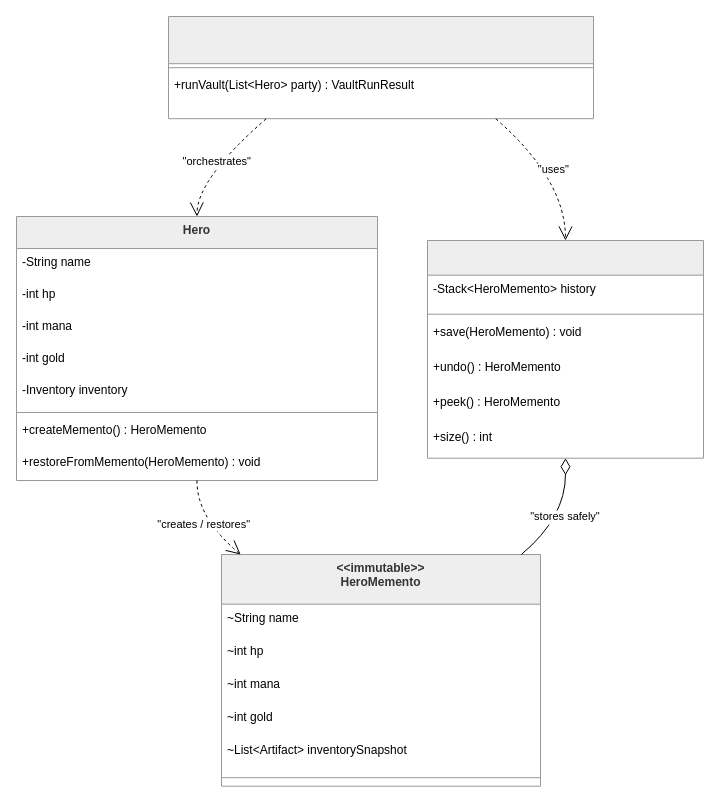
This 720x803 diagram has some shape labels left out. The box of each missing label's shape, as (x1, y1, x2, y2) in pixels:
Caretaker: (426, 240, 704, 458)
ChronomancerEngine: (168, 16, 594, 119)
